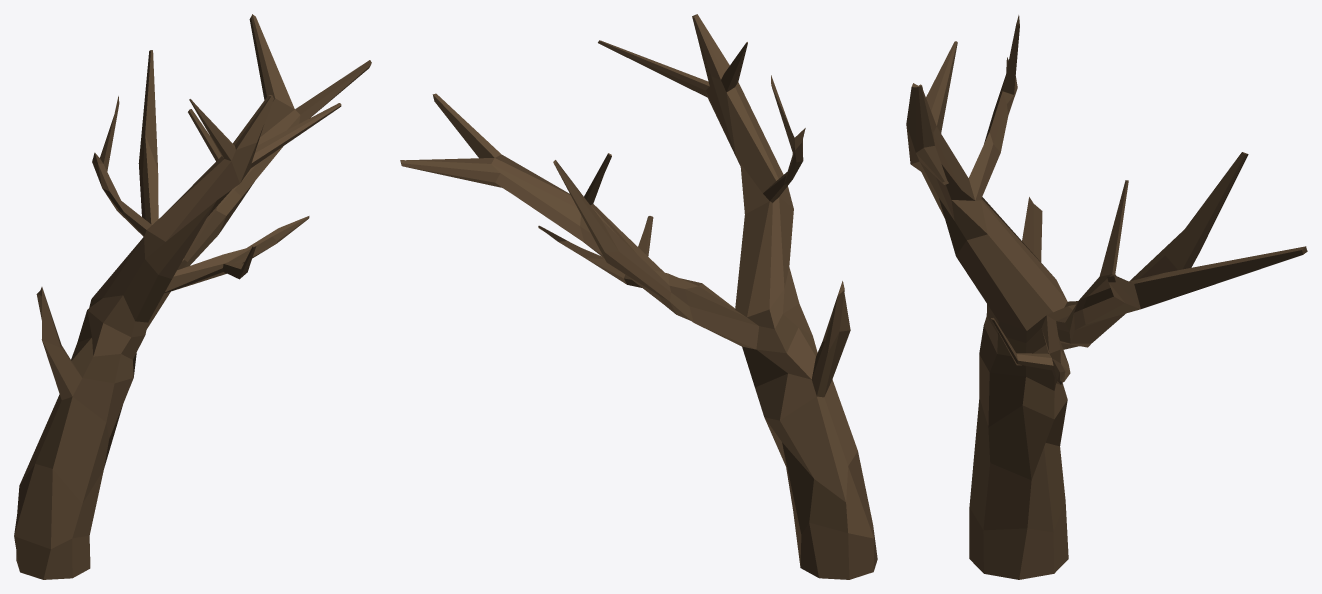
File: Tree06.fbx
3 views of the same model, side by side, from view 1: azimuth 30°, elevation 25°; view 2: azimuth 150°, elevation 25°; view 3: azimuth 270°, elevation 25° (orthographic). The views are drawn at different scales.
Parts seen in each view (by area): view 1: Trunk; view 2: Trunk; view 3: Trunk.
Boxes of the visible parts, x1,y1,x2,y2 form: Trunk: (14, 14, 371, 579); Trunk: (400, 14, 877, 579); Trunk: (906, 15, 1307, 579).
Bounding box in the file's own units: 8.79 × 9.82 × 6.06.
